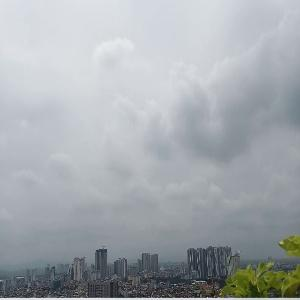drone: (218, 234, 260, 276)
